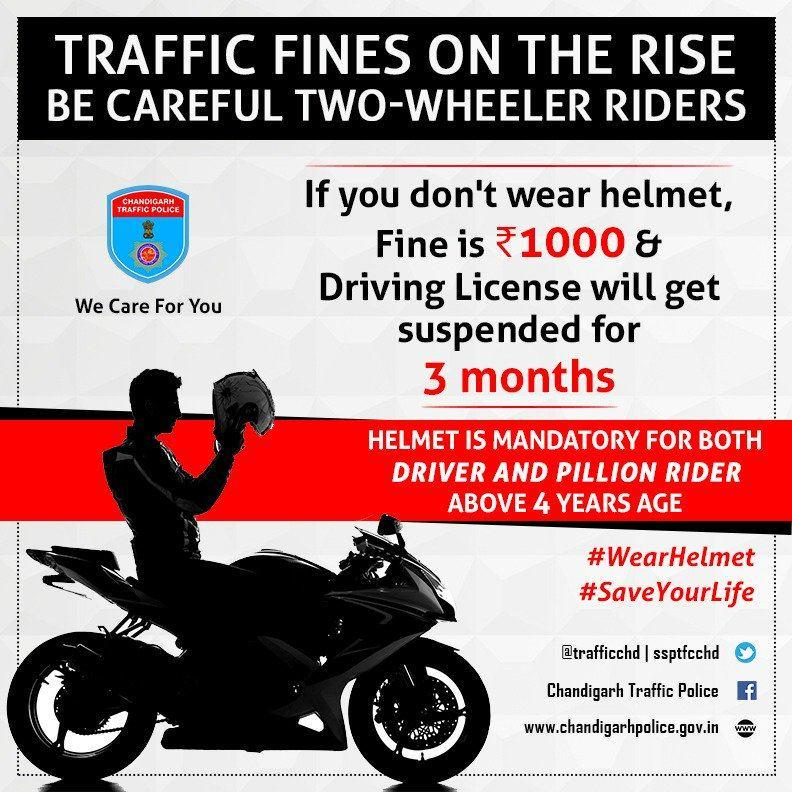Helmet: (215, 367, 277, 450)
